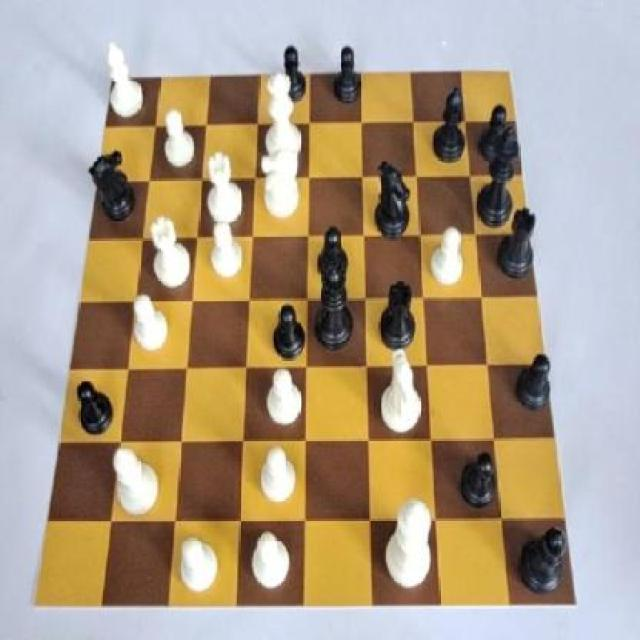bishop: (515, 511, 571, 601), (429, 81, 472, 168)
black-bishop: (471, 118, 522, 240)
black-king: (85, 137, 140, 234), (371, 154, 418, 246)
black-knight: (449, 445, 503, 517), (328, 35, 372, 120), (508, 348, 555, 423), (70, 377, 119, 446), (474, 99, 520, 170), (272, 34, 315, 108), (266, 300, 310, 372), (312, 220, 350, 294)
black-pawn: (312, 254, 357, 358)
black-queen: (372, 271, 423, 351), (492, 206, 545, 282)
black-rook: (112, 440, 166, 523), (101, 39, 152, 122)
white-bishop: (381, 492, 437, 597)
white-king: (372, 349, 428, 444), (260, 142, 308, 232)
white-knight: (177, 530, 225, 598), (248, 530, 297, 596), (266, 366, 312, 434), (254, 443, 299, 510), (426, 220, 465, 292), (131, 288, 170, 360), (206, 215, 245, 284), (161, 102, 197, 174)
white-pawn: (260, 63, 311, 167)
white-queen: (203, 147, 247, 226), (148, 212, 192, 287)
